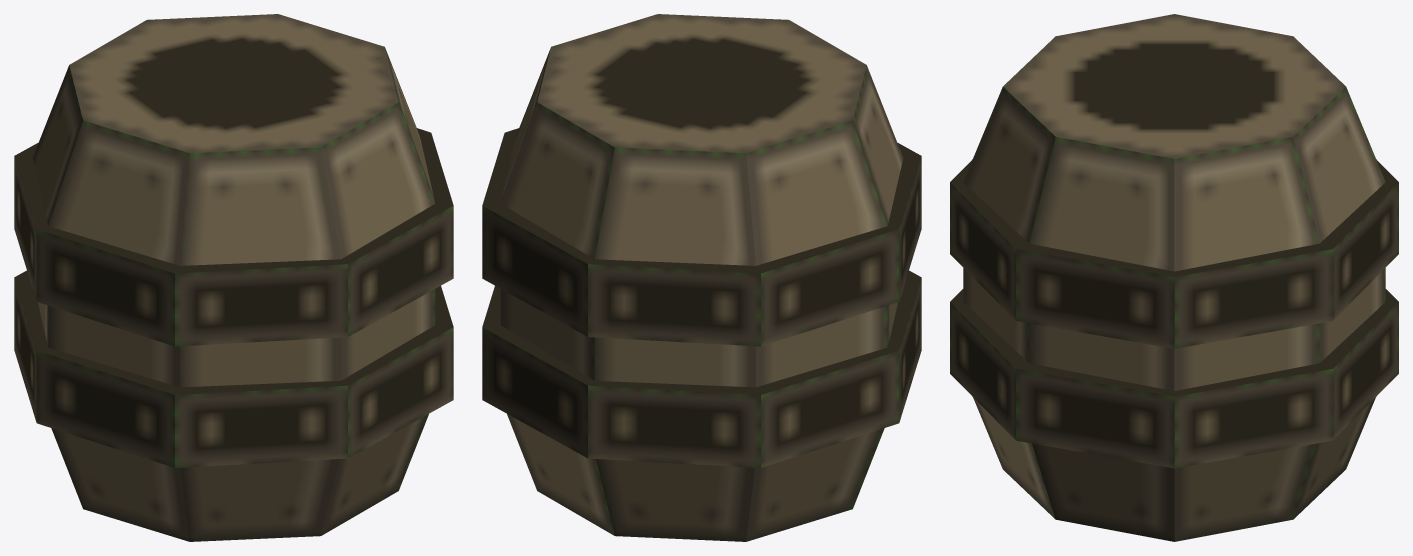
File: MiniBarrel.fbx
The picture shows the model from 3 angles, left to right: view 1: azimuth 30°, elevation 25°; view 2: azimuth 150°, elevation 25°; view 3: azimuth 270°, elevation 25°; orthographic projection.
Parts seen in each view (by area): view 1: MiniBarrel; view 2: MiniBarrel; view 3: MiniBarrel.
Part boxes in pixels (x1,y1,x2,y2): MiniBarrel: (14, 14, 453, 541); MiniBarrel: (482, 14, 921, 541); MiniBarrel: (950, 14, 1398, 541).
Bounding box in the file's own units: 106 × 100 × 106.
